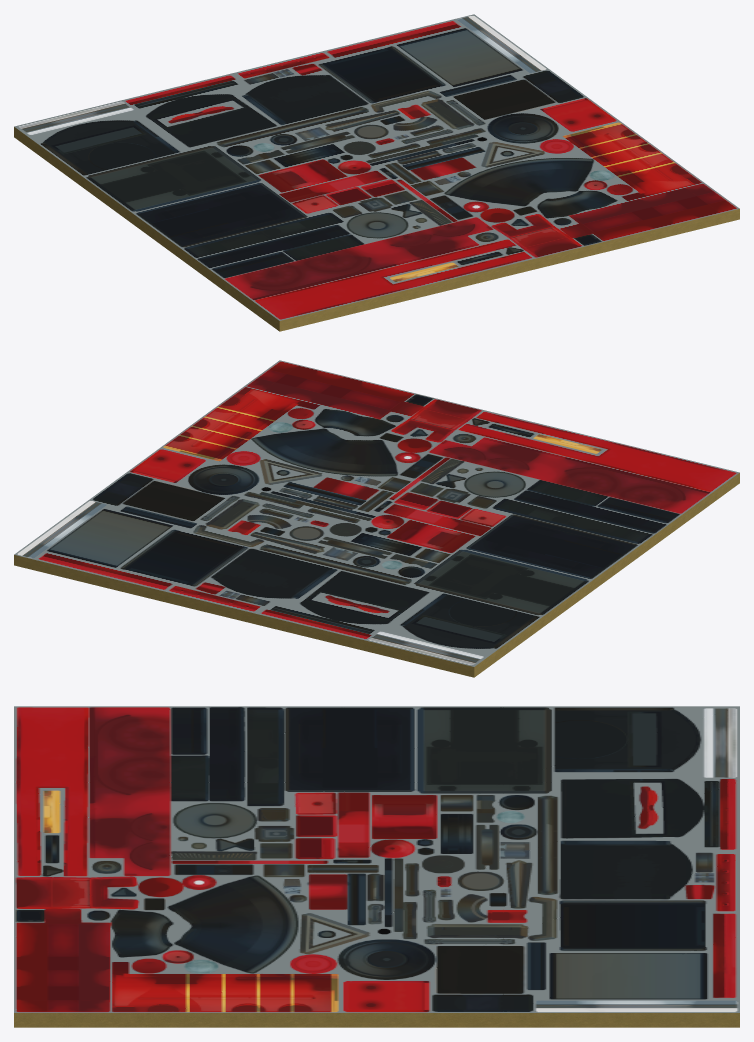
The model's file is GrassLawn.obj.
3 renders of one model, top to bottom at view 1: azimuth 30°, elevation 25°; view 2: azimuth 150°, elevation 25°; view 3: azimuth 270°, elevation 25°, orthographic. The views are drawn at different scales.
Parts seen in each view (by area): view 1: obj1, obj2; view 2: obj1, obj2; view 3: obj1, obj2.
Part boxes in pixels (<box>): obj1: <box>14,14,739,320</box>; obj2: <box>14,127,739,331</box>; obj1: <box>14,360,739,666</box>; obj2: <box>14,473,739,677</box>; obj1: <box>14,706,739,1012</box>; obj2: <box>14,1013,739,1027</box>.
Bounding box in the file's own units: 0.02 × 0.000443 × 0.02.
